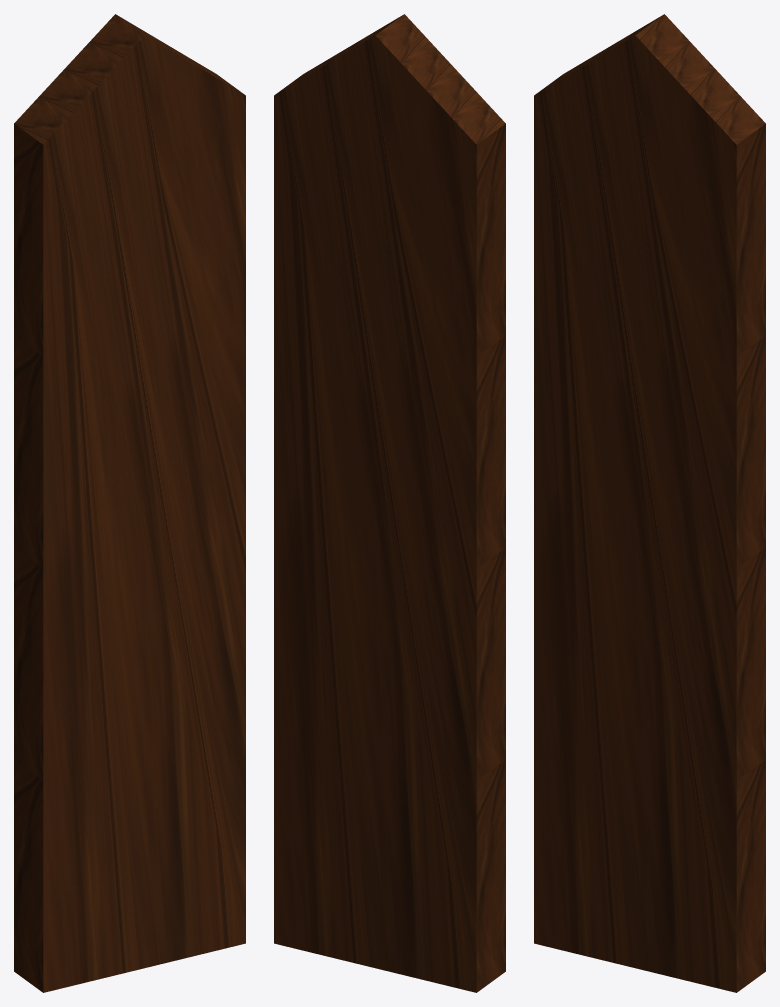
Rendered from Fence.fbx.
The picture shows the model from 3 angles, left to right: view 1: azimuth 30°, elevation 25°; view 2: azimuth 150°, elevation 25°; view 3: azimuth 330°, elevation 25°; orthographic projection.
Visible parts, largest first — view 1: Pole; view 2: Pole; view 3: Pole.
Boxes of the visible parts, <box> form: Pole: <box>14,14,245,992</box>; Pole: <box>274,14,505,992</box>; Pole: <box>534,14,765,992</box>.
Bounding box in the file's own units: 50 × 220 × 12.5.
